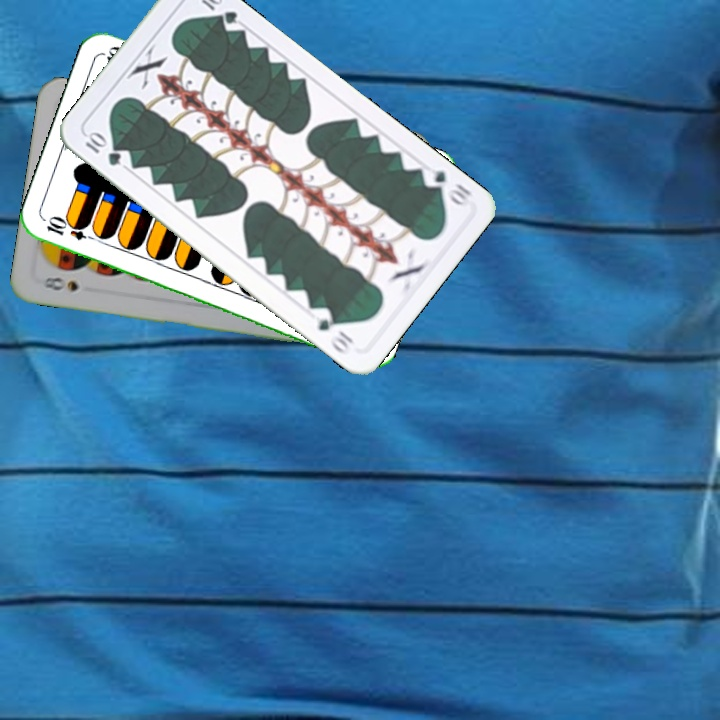E10: (42, 214, 101, 244)
G10: (418, 166, 474, 210), (81, 128, 124, 169)
S8: (35, 273, 81, 294)
